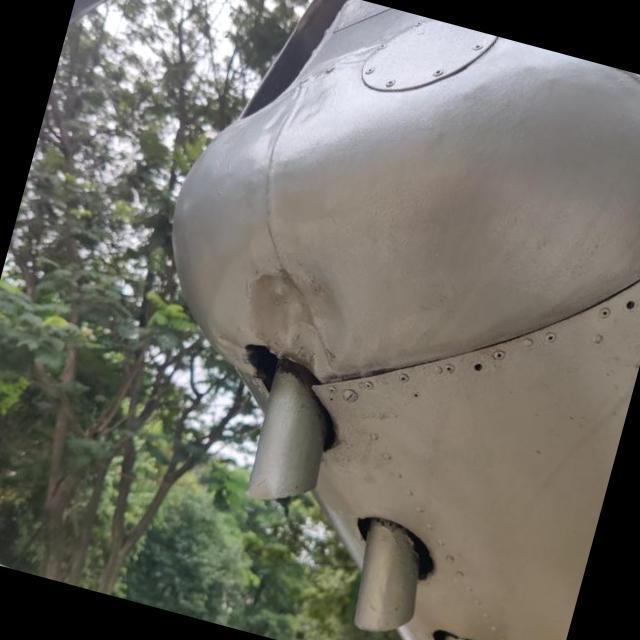Dent: (206, 230, 385, 397), (202, 320, 248, 366)
